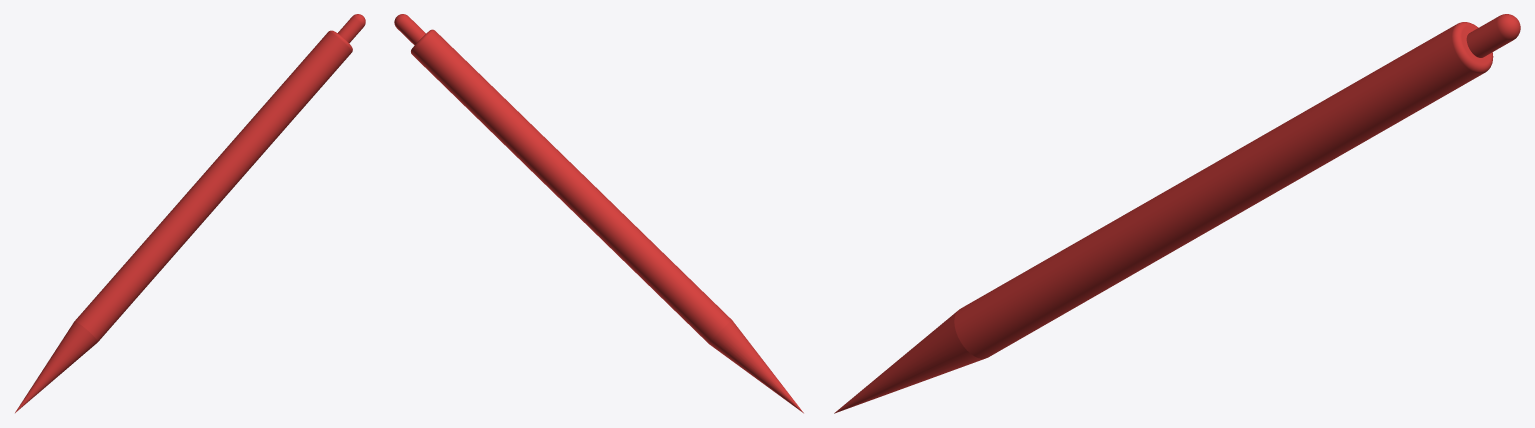
The model's file is pen3.glb.
3 views of the same model, side by side, from view 1: azimuth 30°, elevation 25°; view 2: azimuth 150°, elevation 25°; view 3: azimuth 330°, elevation 25° (orthographic). The views are drawn at different scales.
Visible parts, largest first — view 1: Body130; view 2: Body130; view 3: Body130.
Part boxes in pixels (x1,y1,x2,y2): Body130: [15, 14, 365, 412]; Body130: [394, 14, 803, 413]; Body130: [834, 14, 1520, 413].
Bounding box in the file's own units: 0.2602 × 0.2025 × 0.0344.
